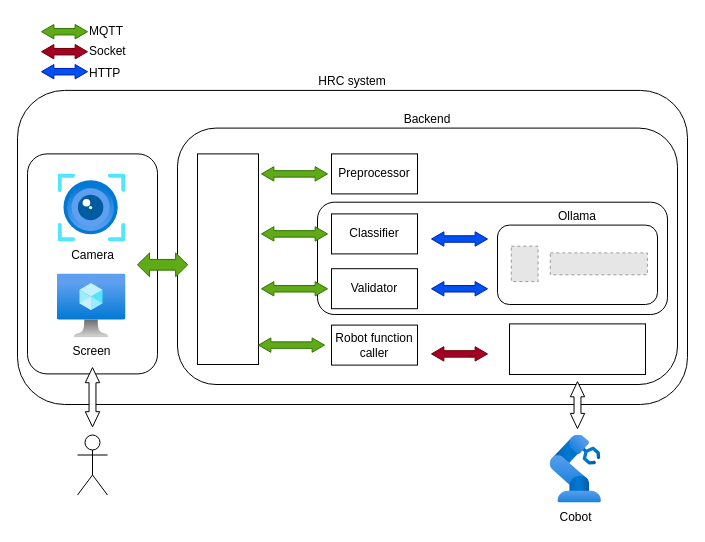
The diagram is 705 pixels wide and 542 high, and some of its shapes have lost their labels. Grey dashed boxes stand in for pictures. The shapes that lost their labels are listed below. From the top down, each one's box as (x1, y1, x2, y2) in pixels, then its label:
(26, 153, 158, 374): Interface
(196, 153, 258, 364): Controller
(316, 201, 668, 314): Classifier-validator system
(508, 323, 646, 374): Robot controller
(76, 434, 108, 495): Operator
